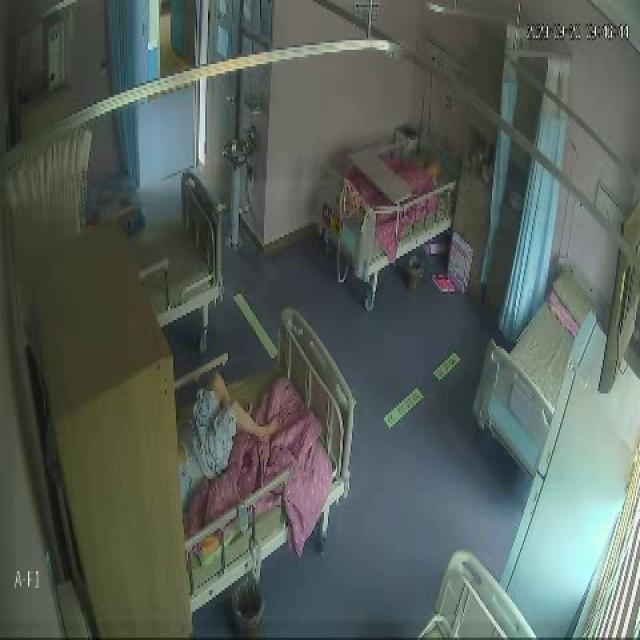bed: (174, 315, 350, 580), (470, 260, 590, 457), (315, 118, 458, 269), (130, 168, 224, 324)
lie: (175, 370, 283, 496)
patient: (174, 367, 282, 497), (413, 148, 443, 186)
